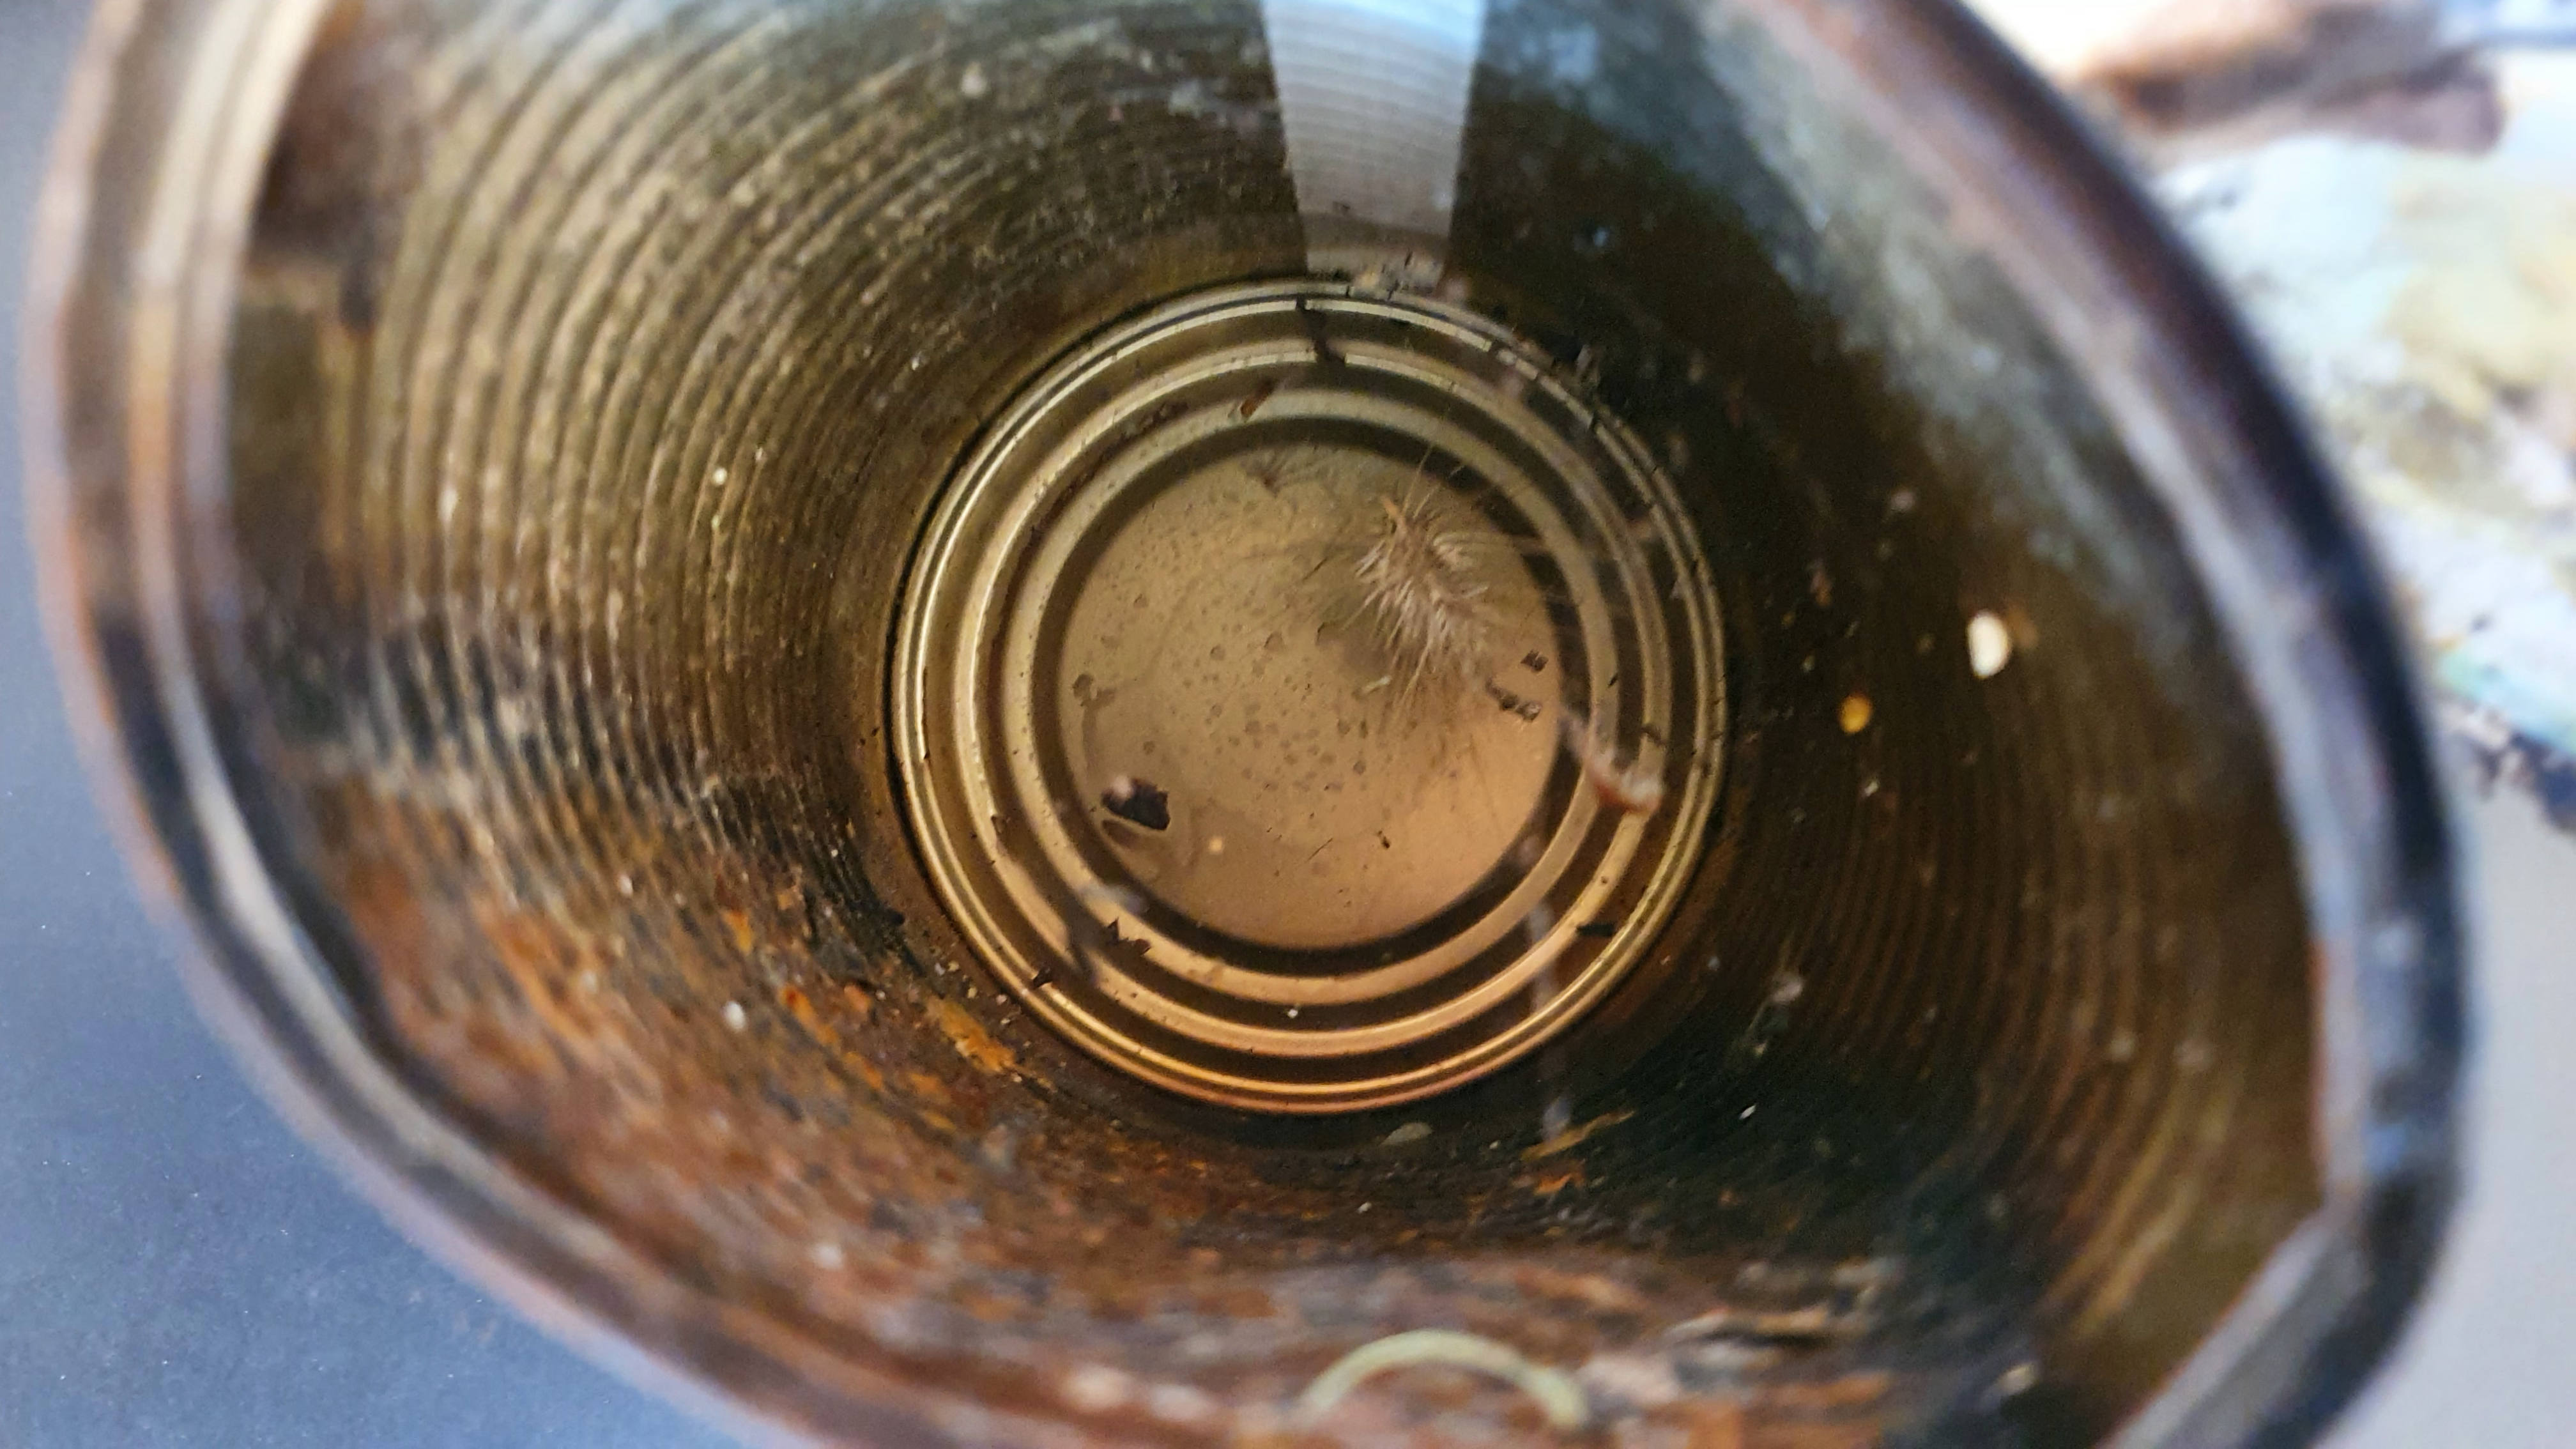metal: (7, 5, 2511, 1449)
